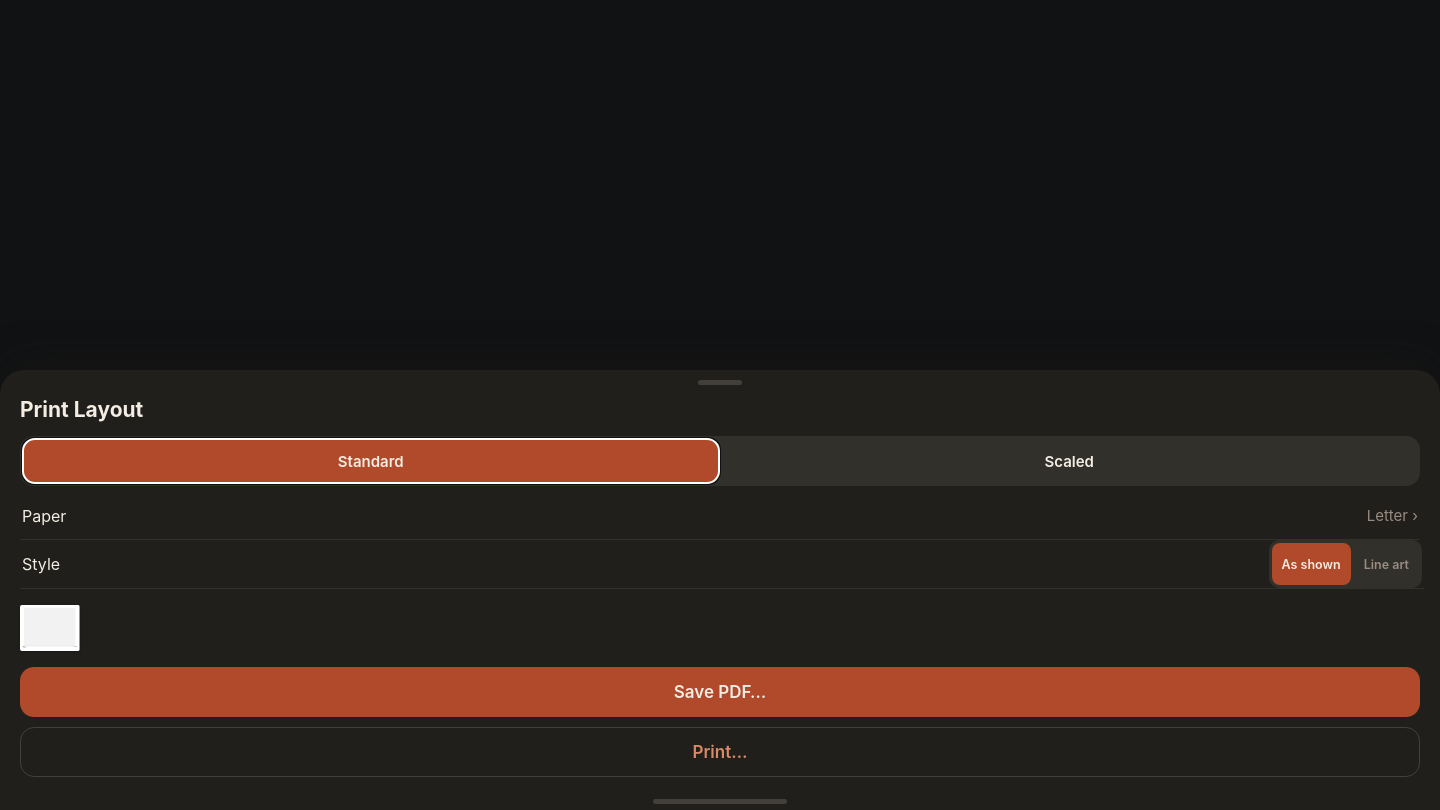
PrintSheet › disables both actions while nothing is visible to print (Scaled, empty extent)
Click the button "Scaled". click: (1069, 461)
box: [722,439,1417,483]
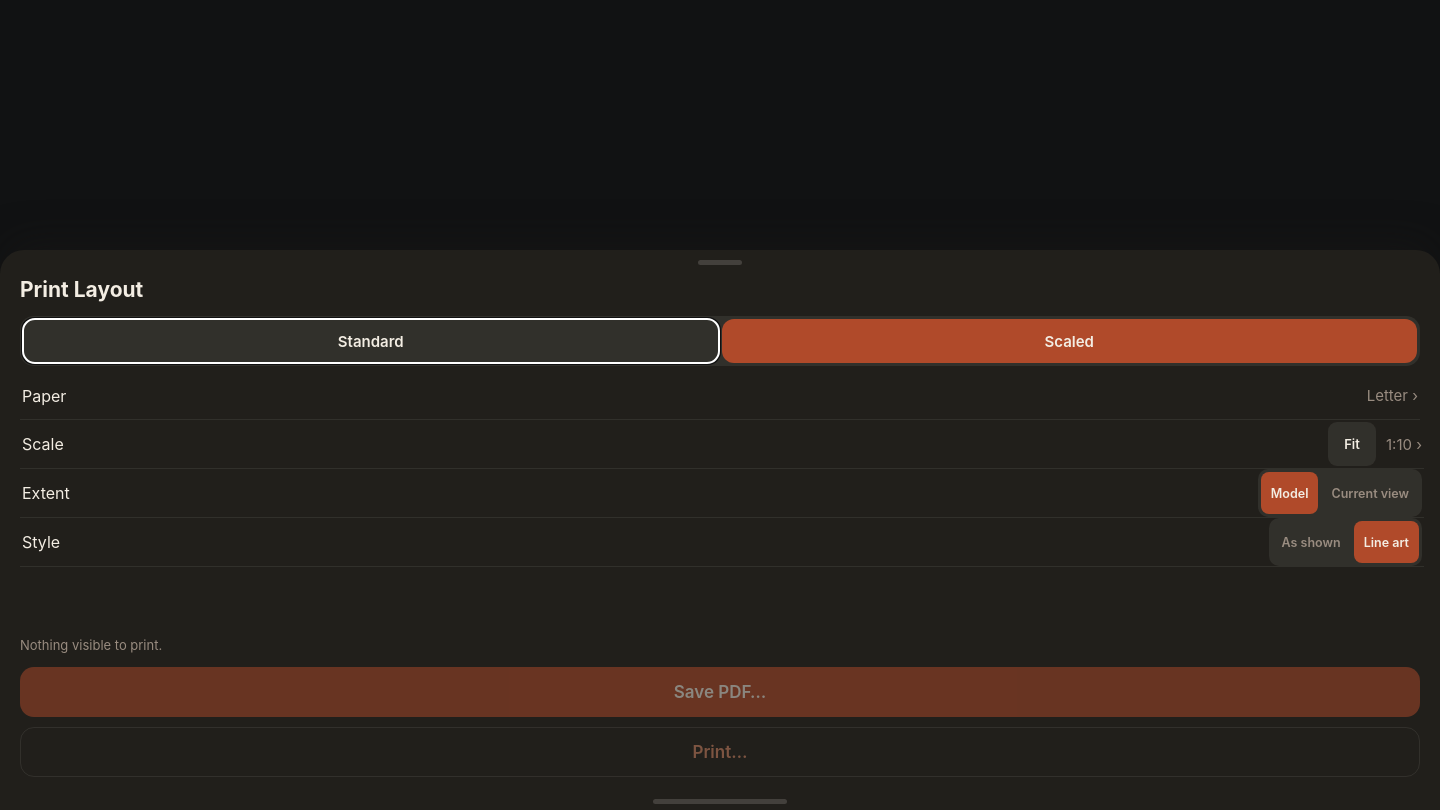
Expected: the button "Save PDF…" is disabled, [20,667,1420,717]
Expected: the button "Print…" is disabled, [20,727,1420,777]
